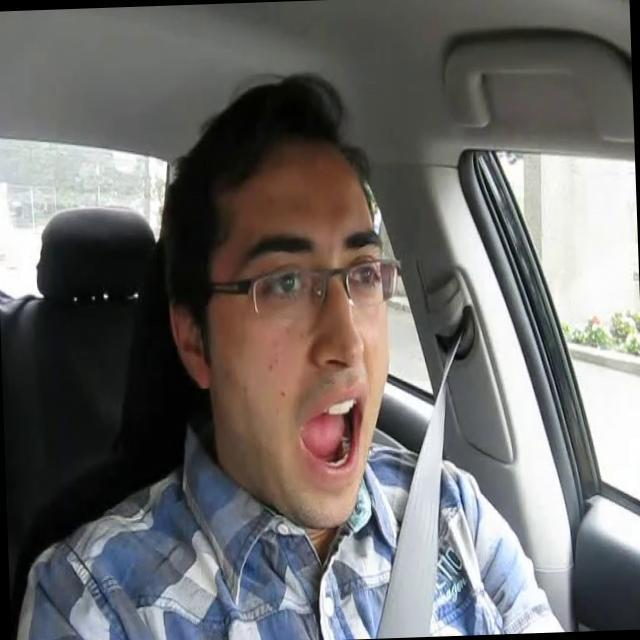open-mouth: (294, 392, 362, 478)
